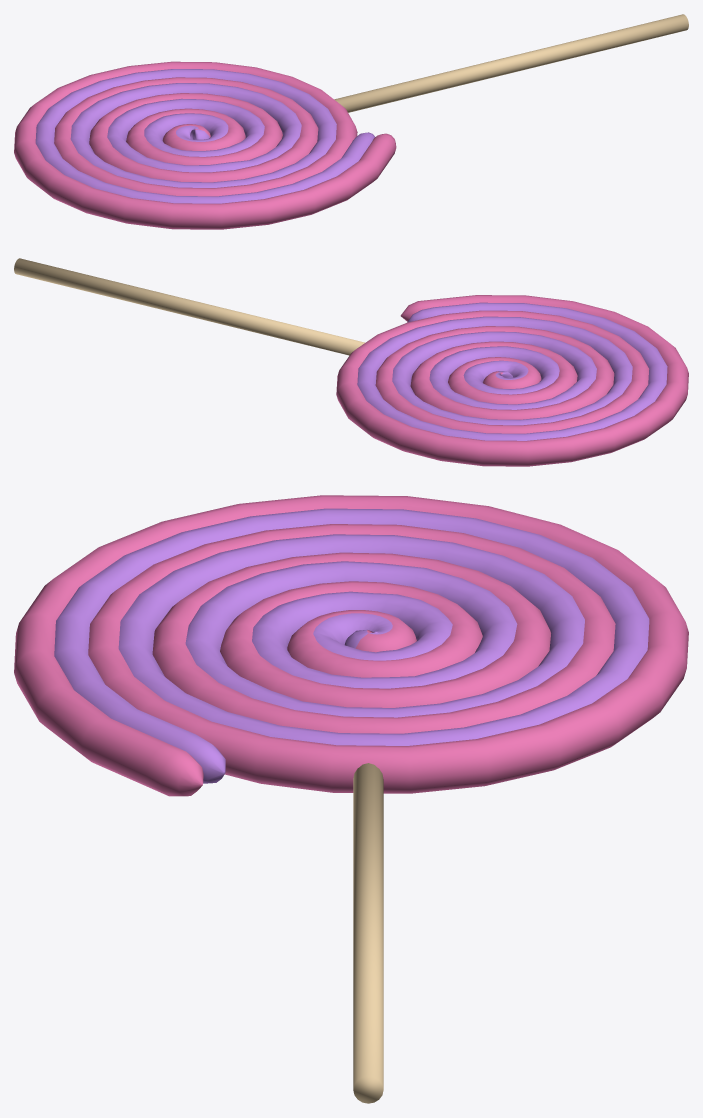
The model's file is lizak zawijany.fbx.
The picture shows the model from 3 angles, top to bottom: view 1: azimuth 30°, elevation 25°; view 2: azimuth 150°, elevation 25°; view 3: azimuth 270°, elevation 25°; orthographic projection. The views are drawn at different scales.
Parts seen in each view (by area): view 1: Spiral.001; view 2: Spiral.001; view 3: Spiral.001.
Part boxes in pixels (x1=…): Spiral.001: x1=14, y1=14, x2=688, y2=229; Spiral.001: x1=14, y1=258, x2=688, y2=466; Spiral.001: x1=14, y1=495, x2=688, y2=1103.
Size of the model in its own units: 401 by 15.26 by 197.
